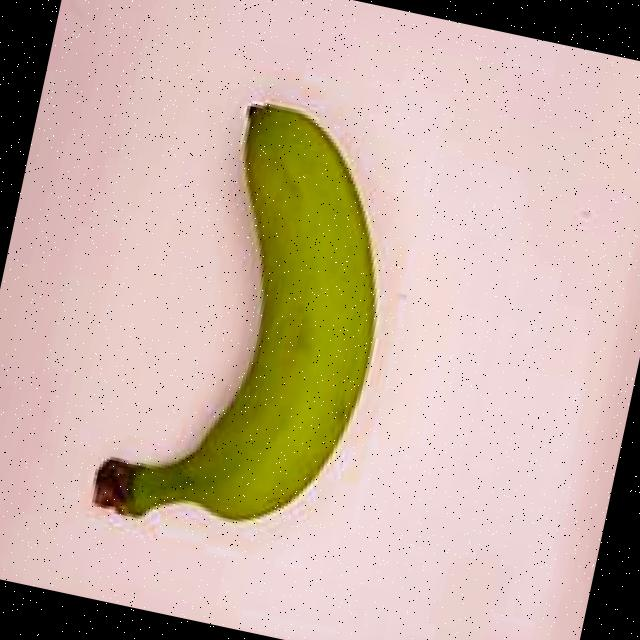Raw: (57, 43, 440, 591)
